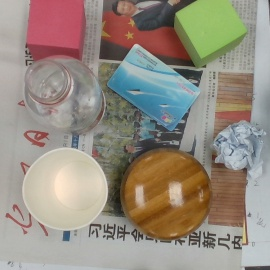bottle: (25, 55, 107, 136)
card: (107, 42, 202, 132)
chess: (121, 147, 214, 238)
cup: (24, 148, 108, 229)
